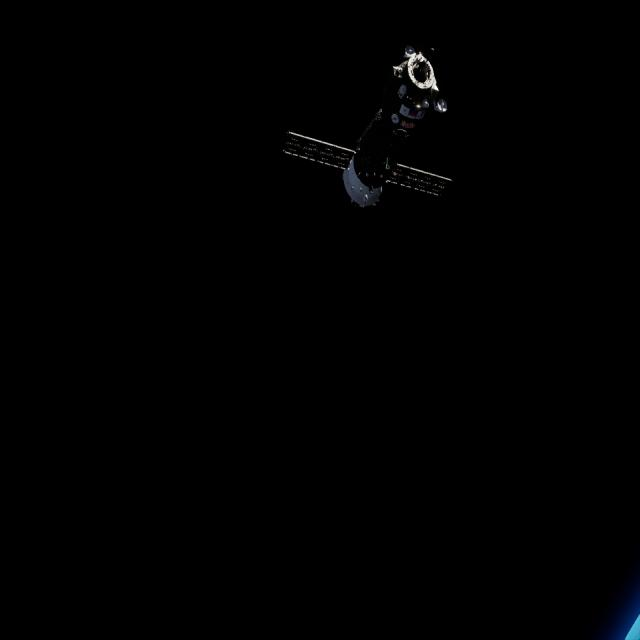Satellites revolving around earth: (280, 41, 457, 212)
